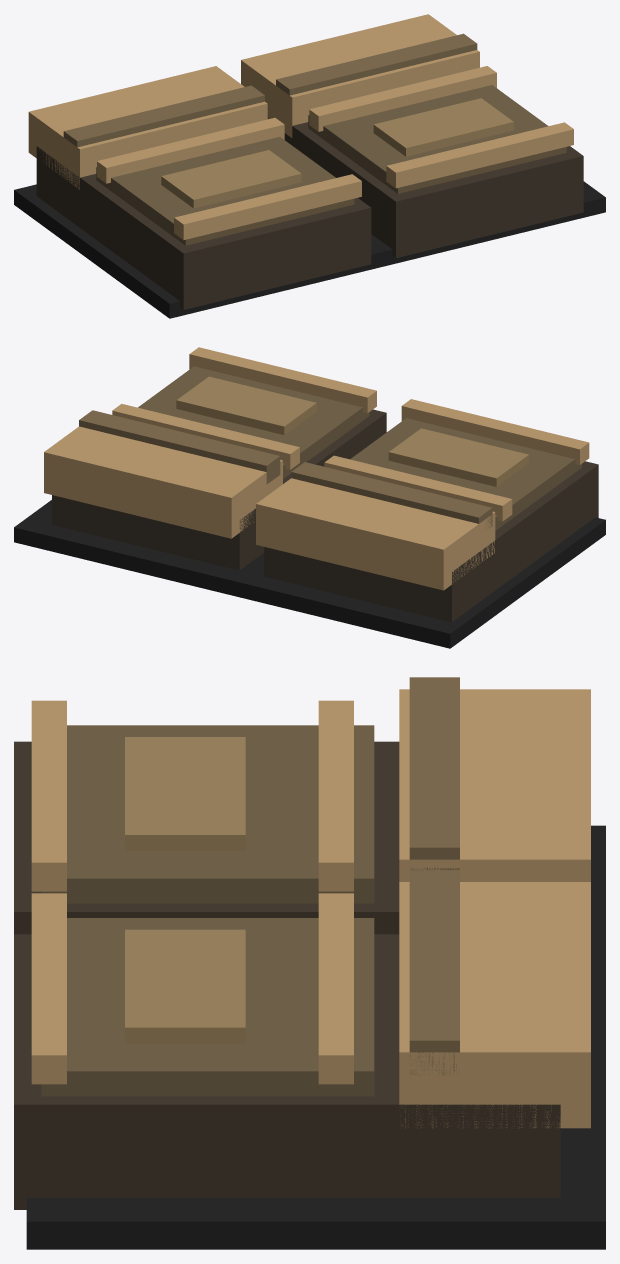
File: CMU3DRMCPouchToolsFillWorldCloud.glb
3 views of the same model, one above another, from view 1: azimuth 30°, elevation 25°; view 2: azimuth 150°, elevation 25°; view 3: azimuth 270°, elevation 25° (orthographic). The views are drawn at different scales.
Visible parts, largest first — view 1: left tool bag volume, right tool bag volume, left attached closed tan flap, right attached closed tan flap, two-pocket sewn shared backing, right front woven cloth, left front woven cloth, left small rectangular front reinforcement, right small rectangular front reinforcement, left horizontal tan web 24.0, right horizontal tan web 24.0, right horizontal tan web 18.3 (+3 smaller); view 2: two-pocket sewn shared backing, left attached closed tan flap, right attached closed tan flap, left tool bag volume, right tool bag volume, left front woven cloth, right front woven cloth, right small rectangular front reinforcement, left small rectangular front reinforcement, right flap lower folded band, left flap lower folded band, left horizontal tan web 24.0 (+3 smaller); view 3: right tool bag volume, two-pocket sewn shared backing, right front woven cloth, left front woven cloth, right attached closed tan flap, left attached closed tan flap, right small rectangular front reinforcement, left small rectangular front reinforcement, left tool bag volume, right flap lower folded band, left flap lower folded band, left horizontal tan web 18.3 (+3 smaller).
Boxes of the visible parts, left/top/right/bottom form: left tool bag volume: left=36, top=146, right=371, bottom=309; right tool bag volume: left=268, top=117, right=583, bottom=257; left attached closed tan flap: left=28, top=66, right=267, bottom=189; right attached closed tan flap: left=241, top=14, right=479, bottom=137; two-pocket sewn shared backing: left=14, top=181, right=605, bottom=318; right front woven cloth: left=308, top=85, right=566, bottom=193; left front woven cloth: left=96, top=137, right=354, bottom=245; left small rectangular front reinforcement: left=161, top=150, right=301, bottom=208; right small rectangular front reinforcement: left=373, top=98, right=513, bottom=156; left horizontal tan web 24.0: left=174, top=174, right=361, bottom=240; right horizontal tan web 24.0: left=386, top=122, right=573, bottom=188; right horizontal tan web 18.3: left=309, top=66, right=496, bottom=131; two-pocket sewn shared backing: left=14, top=500, right=605, bottom=648; left attached closed tan flap: left=256, top=478, right=495, bottom=590; right attached closed tan flap: left=44, top=426, right=282, bottom=538; left tool bag volume: left=264, top=461, right=598, bottom=622; right tool bag volume: left=52, top=409, right=386, bottom=570; left front woven cloth: left=350, top=418, right=581, bottom=530; right front woven cloth: left=138, top=366, right=369, bottom=478; right small rectangular front reinforcement: left=176, top=376, right=316, bottom=435; left small rectangular front reinforcement: left=388, top=428, right=528, bottom=486; right flap lower folded band: left=79, top=410, right=280, bottom=484; left flap lower folded band: left=291, top=462, right=492, bottom=529; left horizontal tan web 24.0: left=401, top=399, right=589, bottom=464; right tool bag volume: left=14, top=934, right=560, bottom=1209; two-pocket sewn shared backing: left=26, top=825, right=605, bottom=1249; right front woven cloth: left=41, top=918, right=374, bottom=1096; left front woven cloth: left=41, top=725, right=374, bottom=903; right attached closed tan flap: left=399, top=882, right=590, bottom=1128; left attached closed tan flap: left=399, top=689, right=590, bottom=881; right small rectangular front reinforcement: left=125, top=929, right=245, bottom=1043; left small rectangular front reinforcement: left=125, top=737, right=245, bottom=850; left tool bag volume: left=14, top=741, right=399, bottom=934; right flap lower folded band: left=409, top=870, right=459, bottom=1075; left flap lower folded band: left=409, top=677, right=459, bottom=870; left horizontal tan web 18.3: left=318, top=700, right=353, bottom=891.
Bounding box in the file's own units: 0.5813 × 0.127 × 0.3672.
